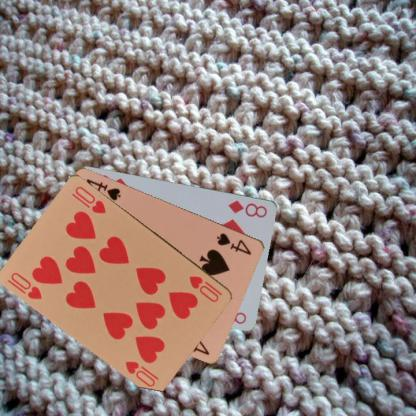10h: (9, 269, 44, 302), (187, 273, 224, 303)
4s: (214, 230, 253, 256)
8d: (226, 198, 269, 219)
